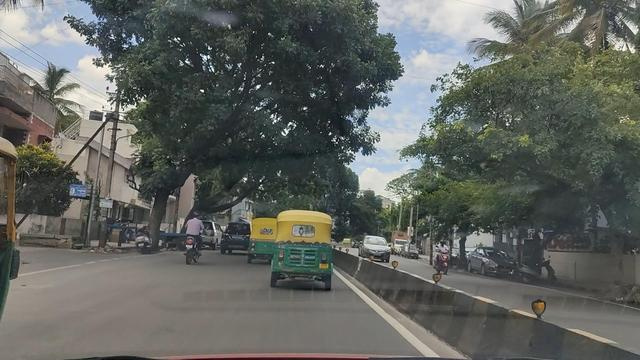LMV: (272, 208, 334, 295), (174, 205, 212, 274), (255, 213, 278, 265), (222, 219, 251, 252)
